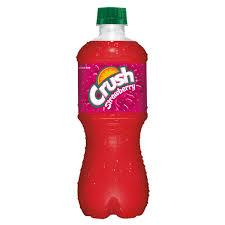Plastic bottle: (73, 3, 154, 224)
